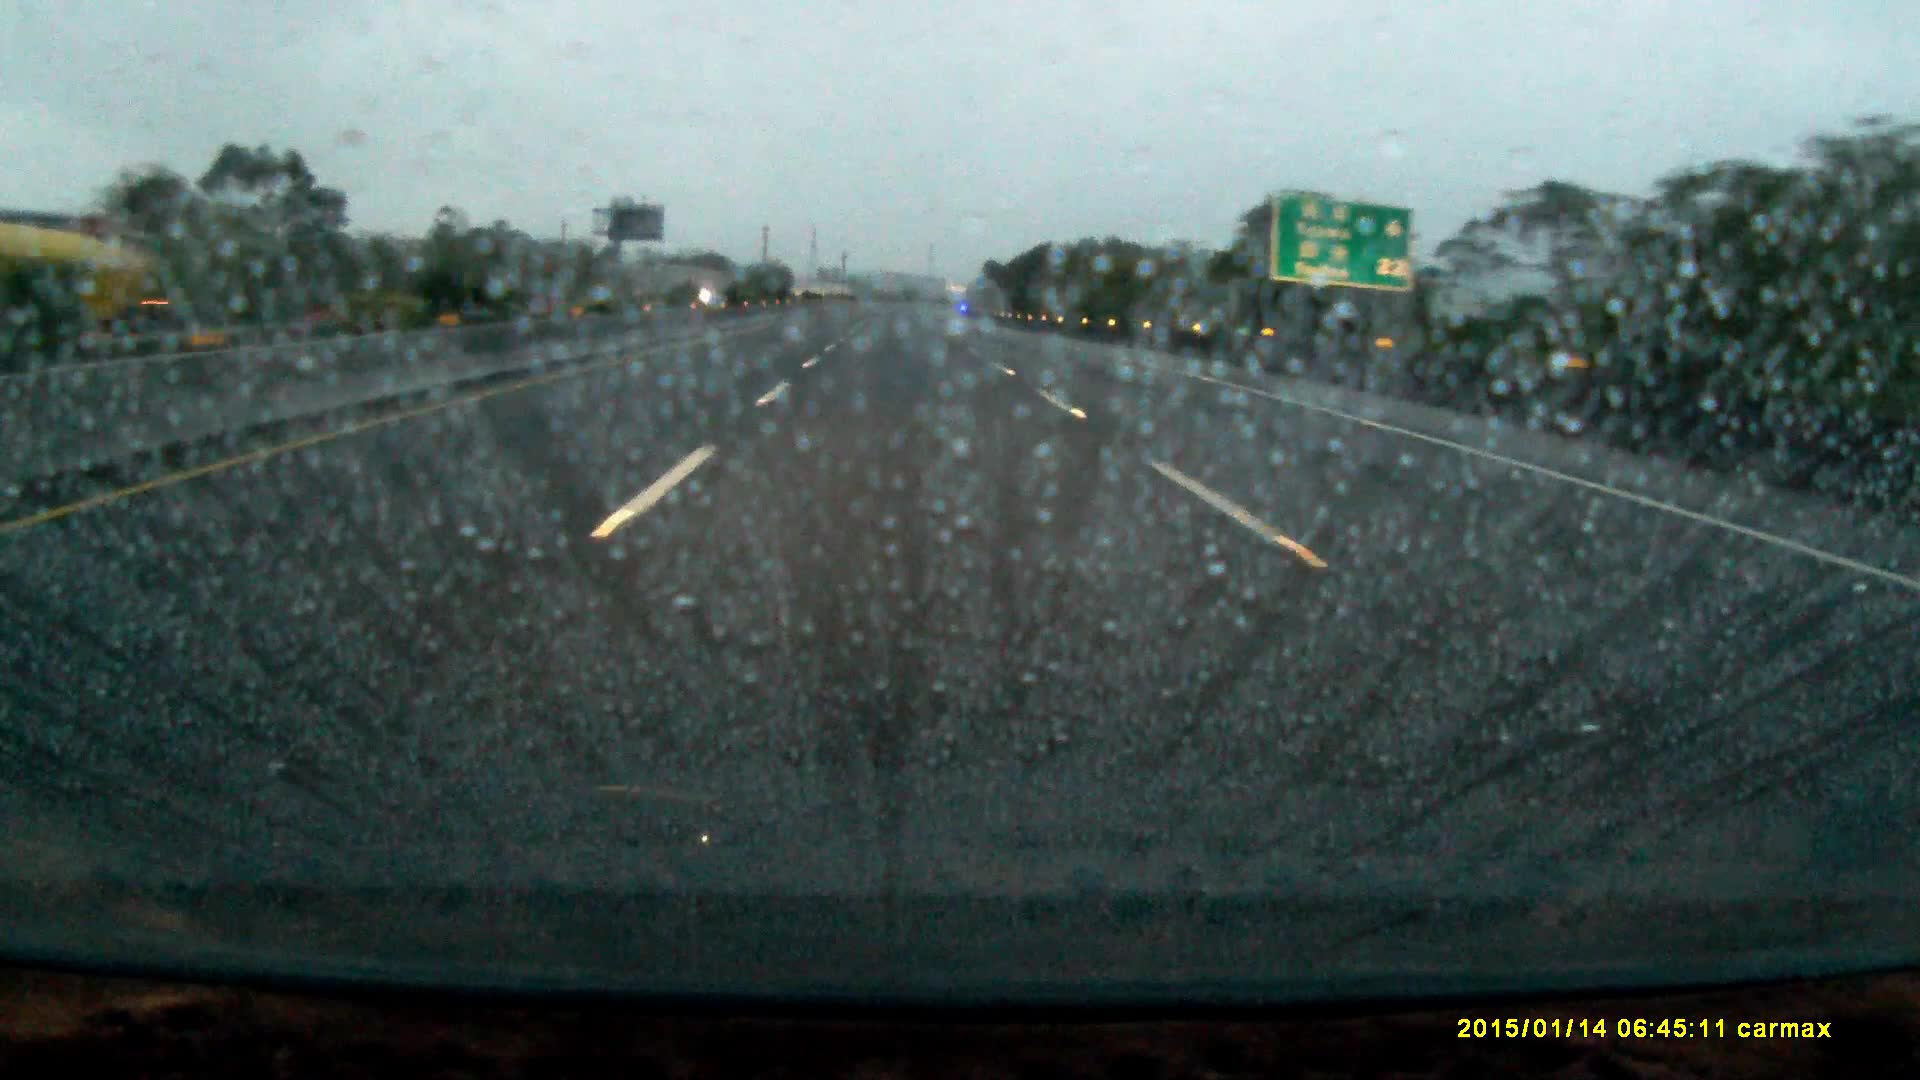vehicle: (7, 232, 145, 344)
